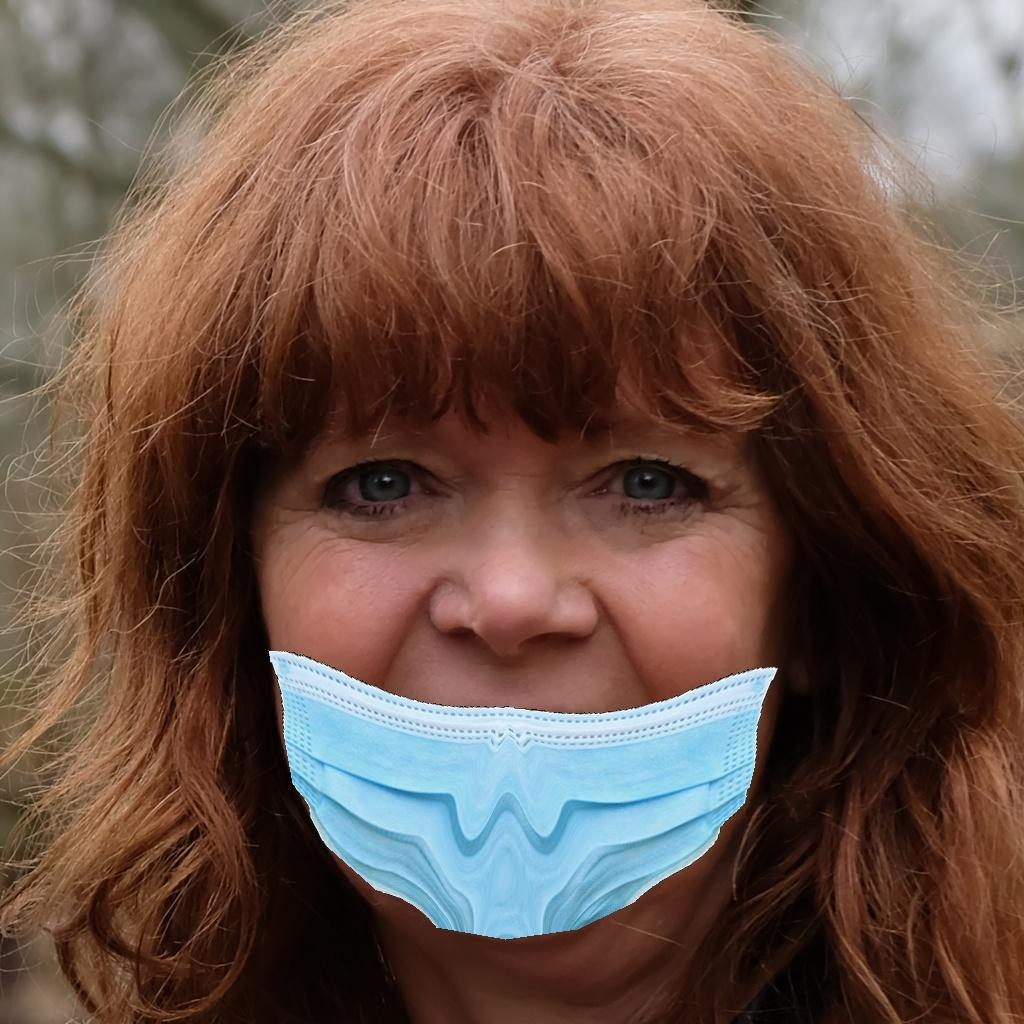Máscara Incorreta: (230, 364, 789, 924)
